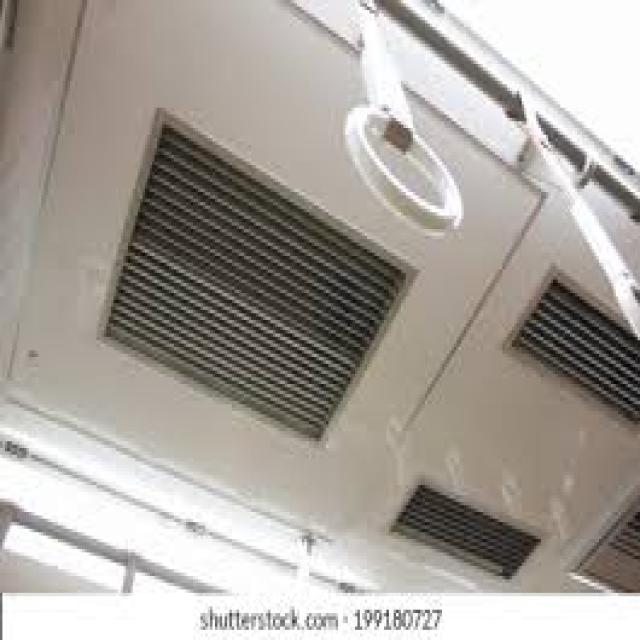Air_Conditioner: (120, 123, 370, 430)
